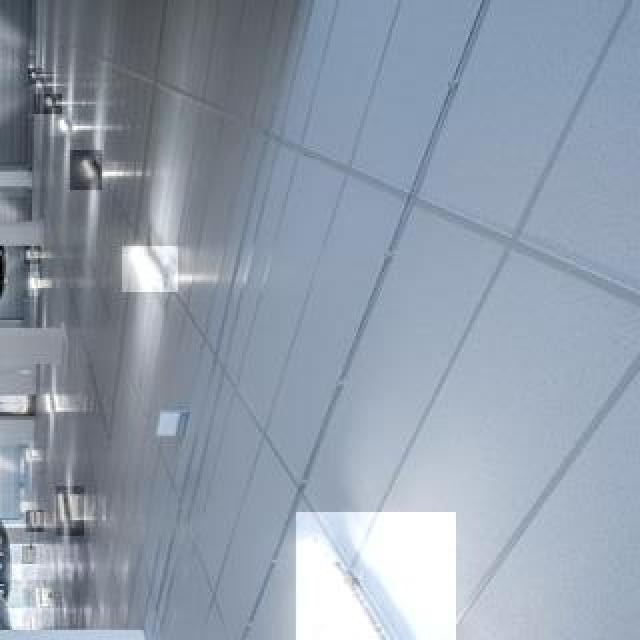fluorescent tube: (330, 542, 424, 640), (114, 249, 171, 287), (73, 153, 102, 191), (49, 491, 73, 527)
